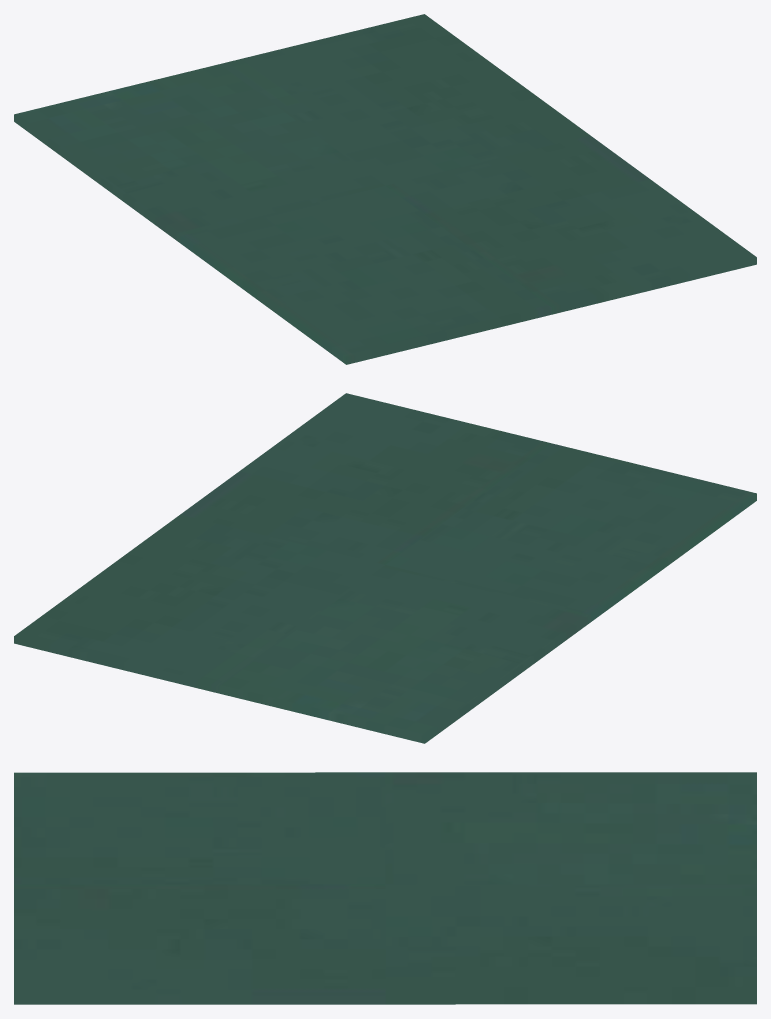
3 renders of one model, top to bottom at view 1: azimuth 30°, elevation 25°; view 2: azimuth 150°, elevation 25°; view 3: azimuth 270°, elevation 25°, orthographic. The views are drawn at different scales.
Visible parts, largest first — view 1: 3043627270437063742_0; view 2: 3043627270437063742_0; view 3: 3043627270437063742_0.
Part boxes in pixels (x1,y1,x2,y2): 3043627270437063742_0: [14, 14, 756, 364]; 3043627270437063742_0: [14, 393, 756, 743]; 3043627270437063742_0: [14, 772, 756, 1004].
Bounding box in the file's own units: 54.63 × 1.25 × 76.53.
1 material, 1 textured.
